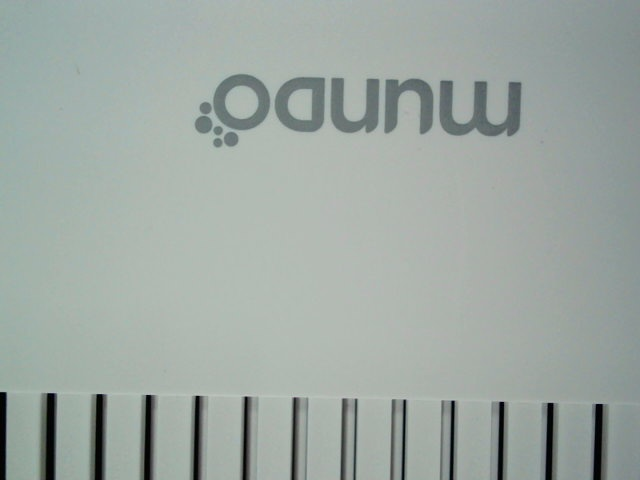BI_MUNDO: (187, 65, 531, 155)
